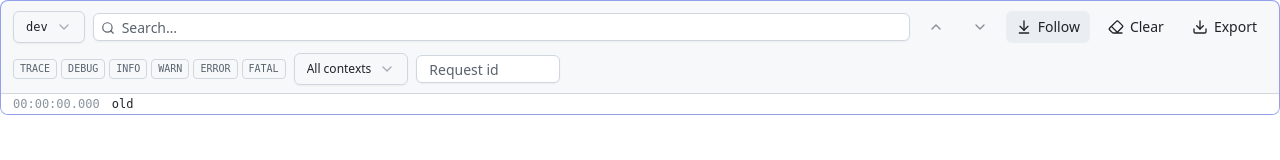
LogPane › clears
The width and height of the screenshot is (1280, 160).
Expected: the text "old" is shown, [112, 97, 133, 111]
Click the button "Clear".
click(1136, 27)  # box [1098, 11, 1174, 43]
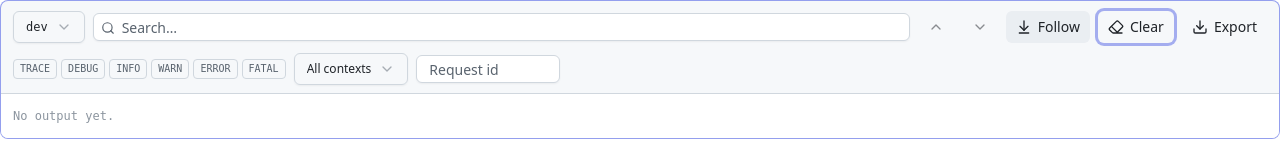
Result: the text "old" is gone
